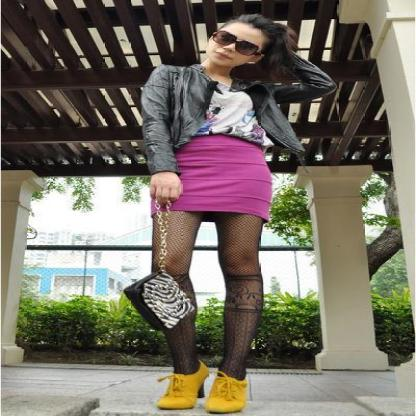bag: (124, 192, 193, 330)
jacket: (137, 64, 336, 172)
shirt: (194, 73, 274, 150)
shoe: (157, 374, 247, 416)
skirt: (162, 135, 286, 222)
sunglass: (216, 33, 251, 55)
